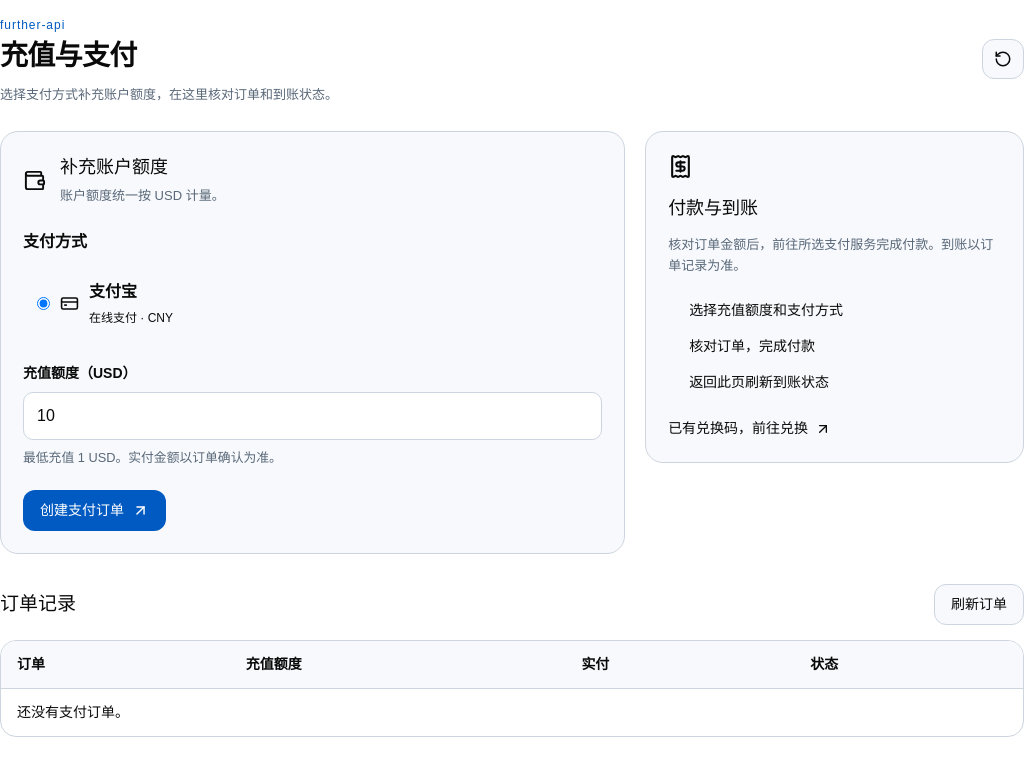
independent gateway payment workspace › preserves the server signed external POST and shows its frozen amount before payment
What coordinates should you click on to do the following:
click the button "创建支付订单"
I would click on:
 (94, 510)
Its box is 23,490 -> 166,531.
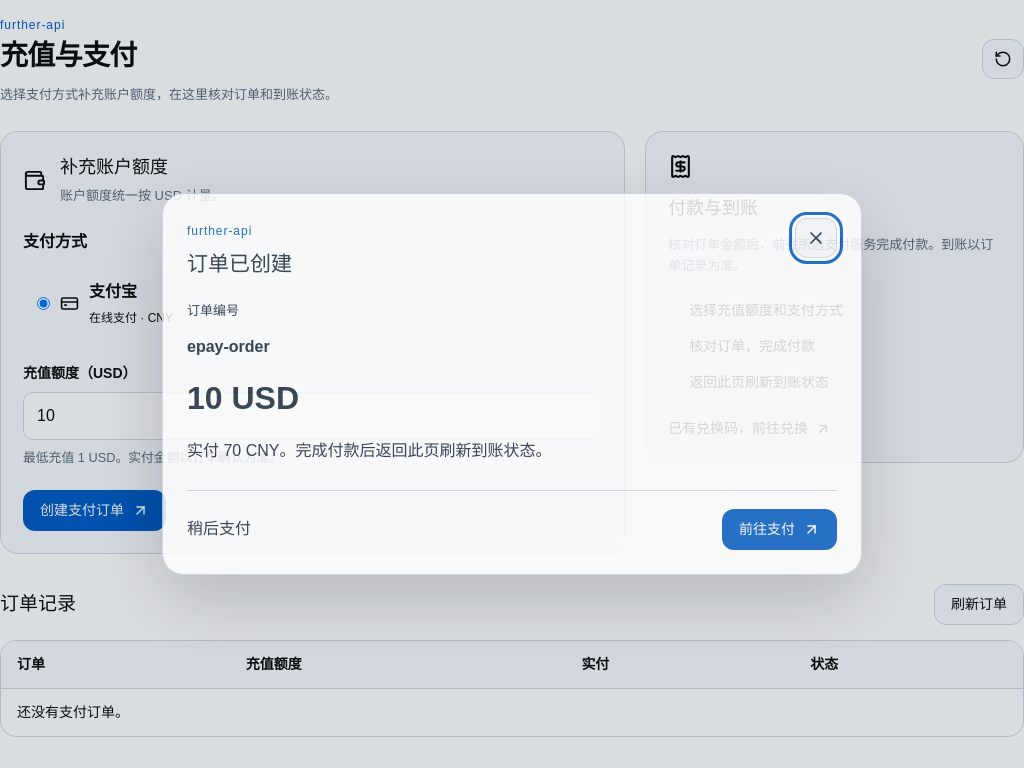
Check: the form named "sign" holds "signed-result", box 722,509 -> 837,550
Check: the text "实付 70 CNY。完成付款后返回此页刷新到账状态。" is shown, box 187,442 -> 552,459
